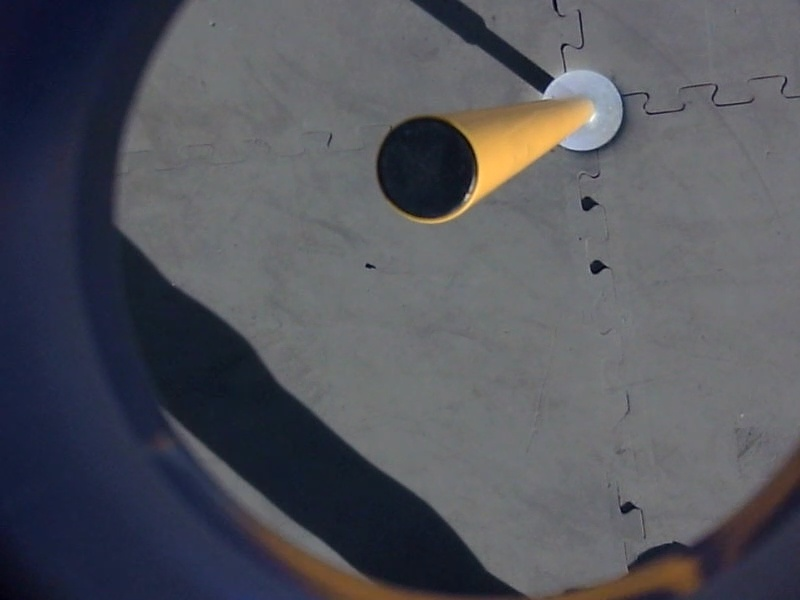tip: (370, 112, 487, 229)
